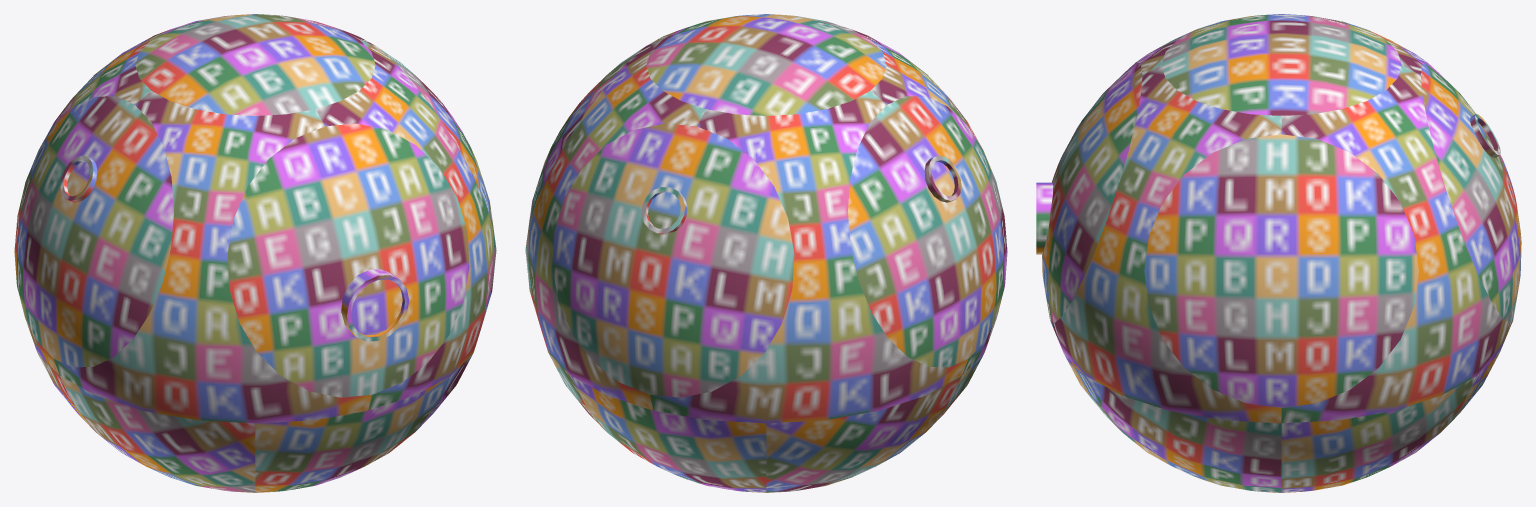
File: andromeda_crew_s1_1.obj
3 renders of one model, left to right at view 1: azimuth 30°, elevation 25°; view 2: azimuth 150°, elevation 25°; view 3: azimuth 270°, elevation 25°, orthographic.
Parts seen in each view (by area): view 1: 1; view 2: 1; view 3: 1.
Part boxes in pixels (bbox=[...]): 1: bbox=[14, 14, 496, 492]; 1: bbox=[525, 14, 1007, 492]; 1: bbox=[1036, 14, 1521, 492].
Size of the model in its own units: 1.25 by 1.25 by 1.26.
